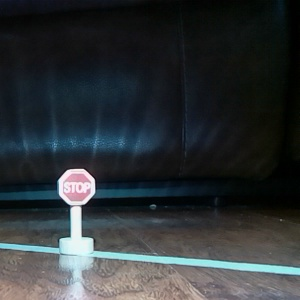stop sign: (53, 166, 100, 258)
